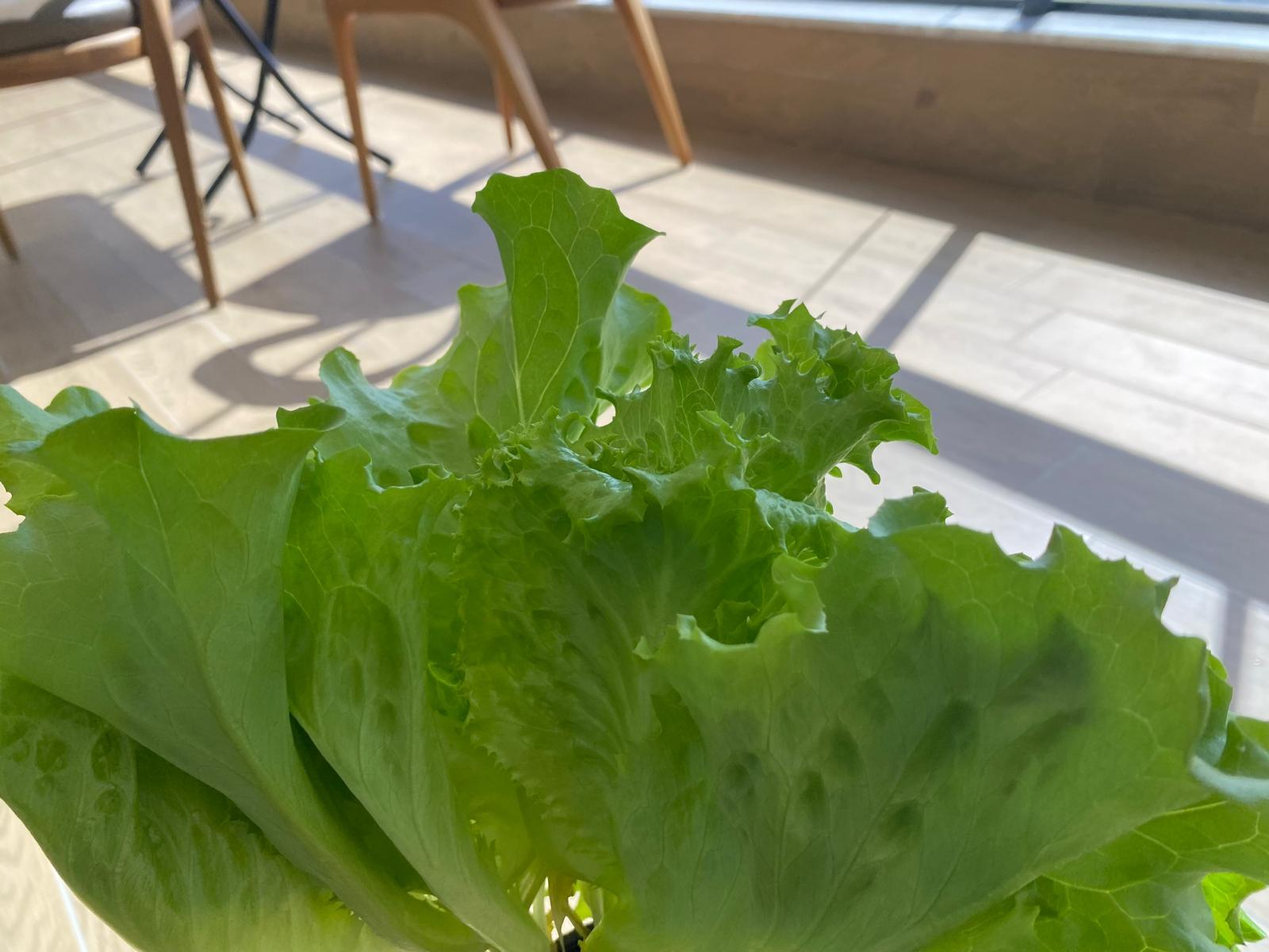Healthy Lettuce: (0, 167, 1269, 952)
